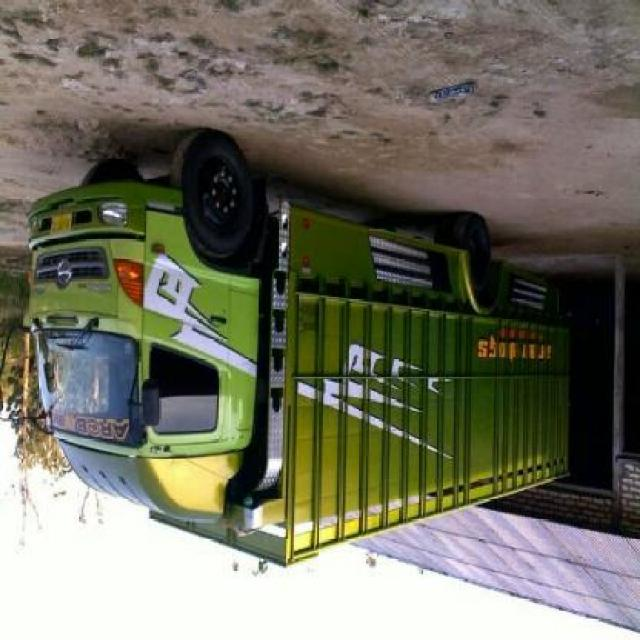truck: (29, 142, 566, 568)
